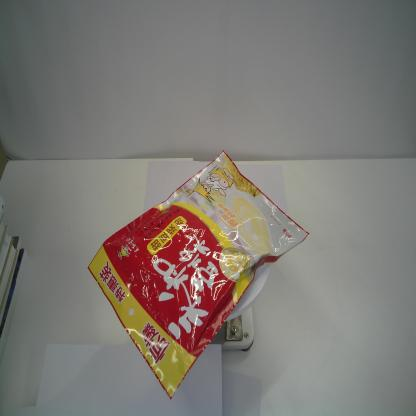Instant Drink: (88, 148, 310, 401)
